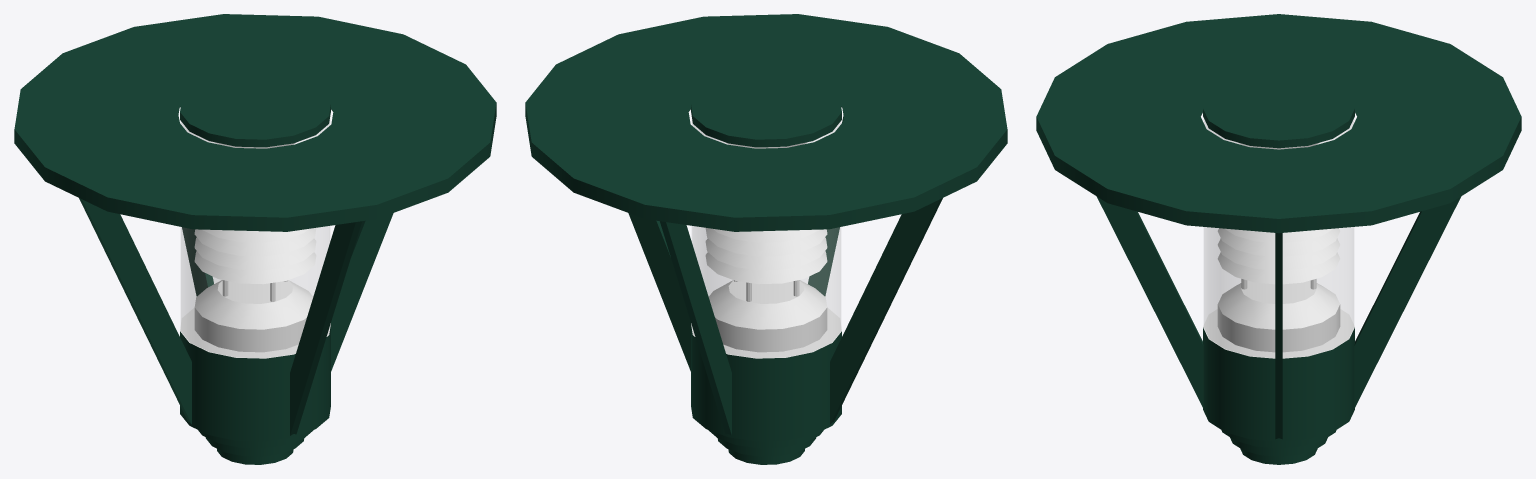
Rendered from Vista.glb.
3 views of the same model, side by side, from view 1: azimuth 30°, elevation 25°; view 2: azimuth 150°, elevation 25°; view 3: azimuth 270°, elevation 25° (orthographic).
Visible parts, largest first — view 1: Gehaeuse.001, Glas.001, Streben, Lamellen.001; view 2: Gehaeuse.001, Glas.001, Streben, Lamellen.001; view 3: Gehaeuse.001, Glas.001, Streben, Lamellen.001.
Part boxes in pixels (x1=…): Gehaeuse.001: x1=14, y1=14, x2=496, y2=464; Glas.001: x1=181, y1=121, x2=329, y2=357; Streben: x1=79, y1=116, x2=393, y2=435; Lamellen.001: x1=194, y1=228, x2=316, y2=284; Gehaeuse.001: x1=525, y1=14, x2=1007, y2=464; Glas.001: x1=692, y1=121, x2=840, y2=357; Streben: x1=628, y1=116, x2=942, y2=435; Lamellen.001: x1=705, y1=228, x2=827, y2=284; Gehaeuse.001: x1=1036, y1=14, x2=1521, y2=464; Glas.001: x1=1204, y1=119, x2=1353, y2=357; Streben: x1=1096, y1=196, x2=1461, y2=439; Lamellen.001: x1=1217, y1=228, x2=1340, y2=284.
Bounding box in the file's own units: 0.65 × 0.5028 × 0.65.
3 materials, 2 textured.
